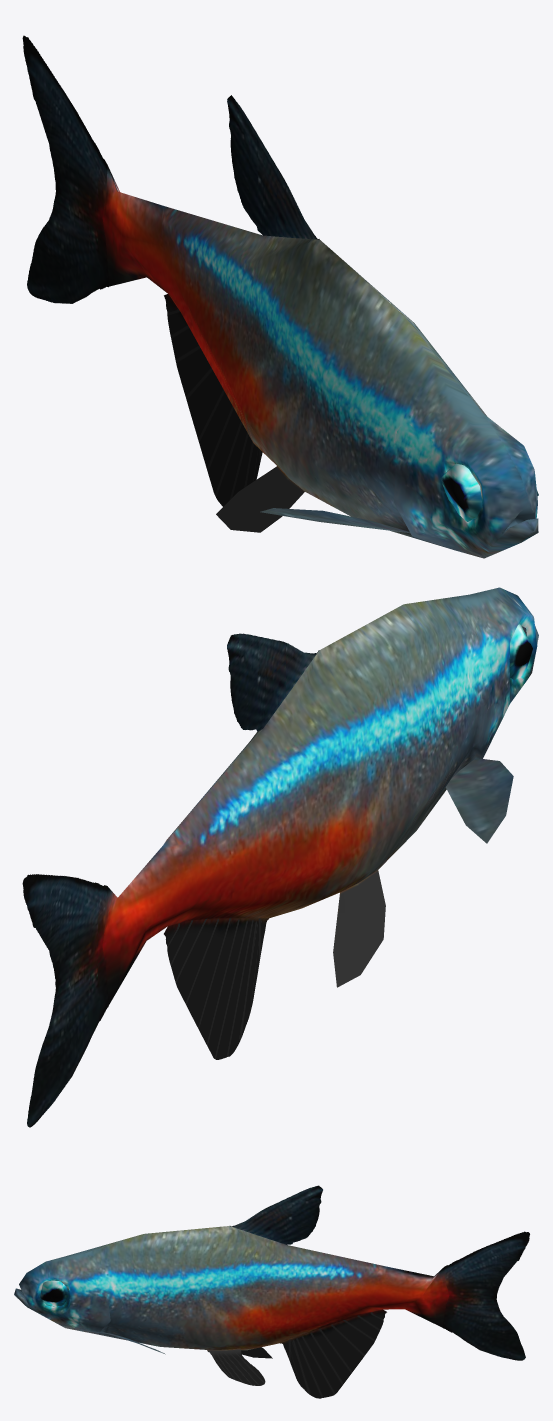
Rendered from fish_tetraneon_lowlow.fbx.
3 renders of one model, top to bottom at view 1: azimuth 30°, elevation 25°; view 2: azimuth 150°, elevation 25°; view 3: azimuth 270°, elevation 25°, orthographic. The views are drawn at different scales.
Visible parts, largest first — view 1: fish_tetraneon_lowlow; view 2: fish_tetraneon_lowlow; view 3: fish_tetraneon_lowlow.
Part boxes in pixels (left/top/right/bottom): fish_tetraneon_lowlow: left=22, top=35, right=538, bottom=558; fish_tetraneon_lowlow: left=22, top=587, right=538, bottom=1127; fish_tetraneon_lowlow: left=14, top=1185, right=529, bottom=1398.
Size of the model in its own units: 0.1816 by 0.342 by 0.6987.
